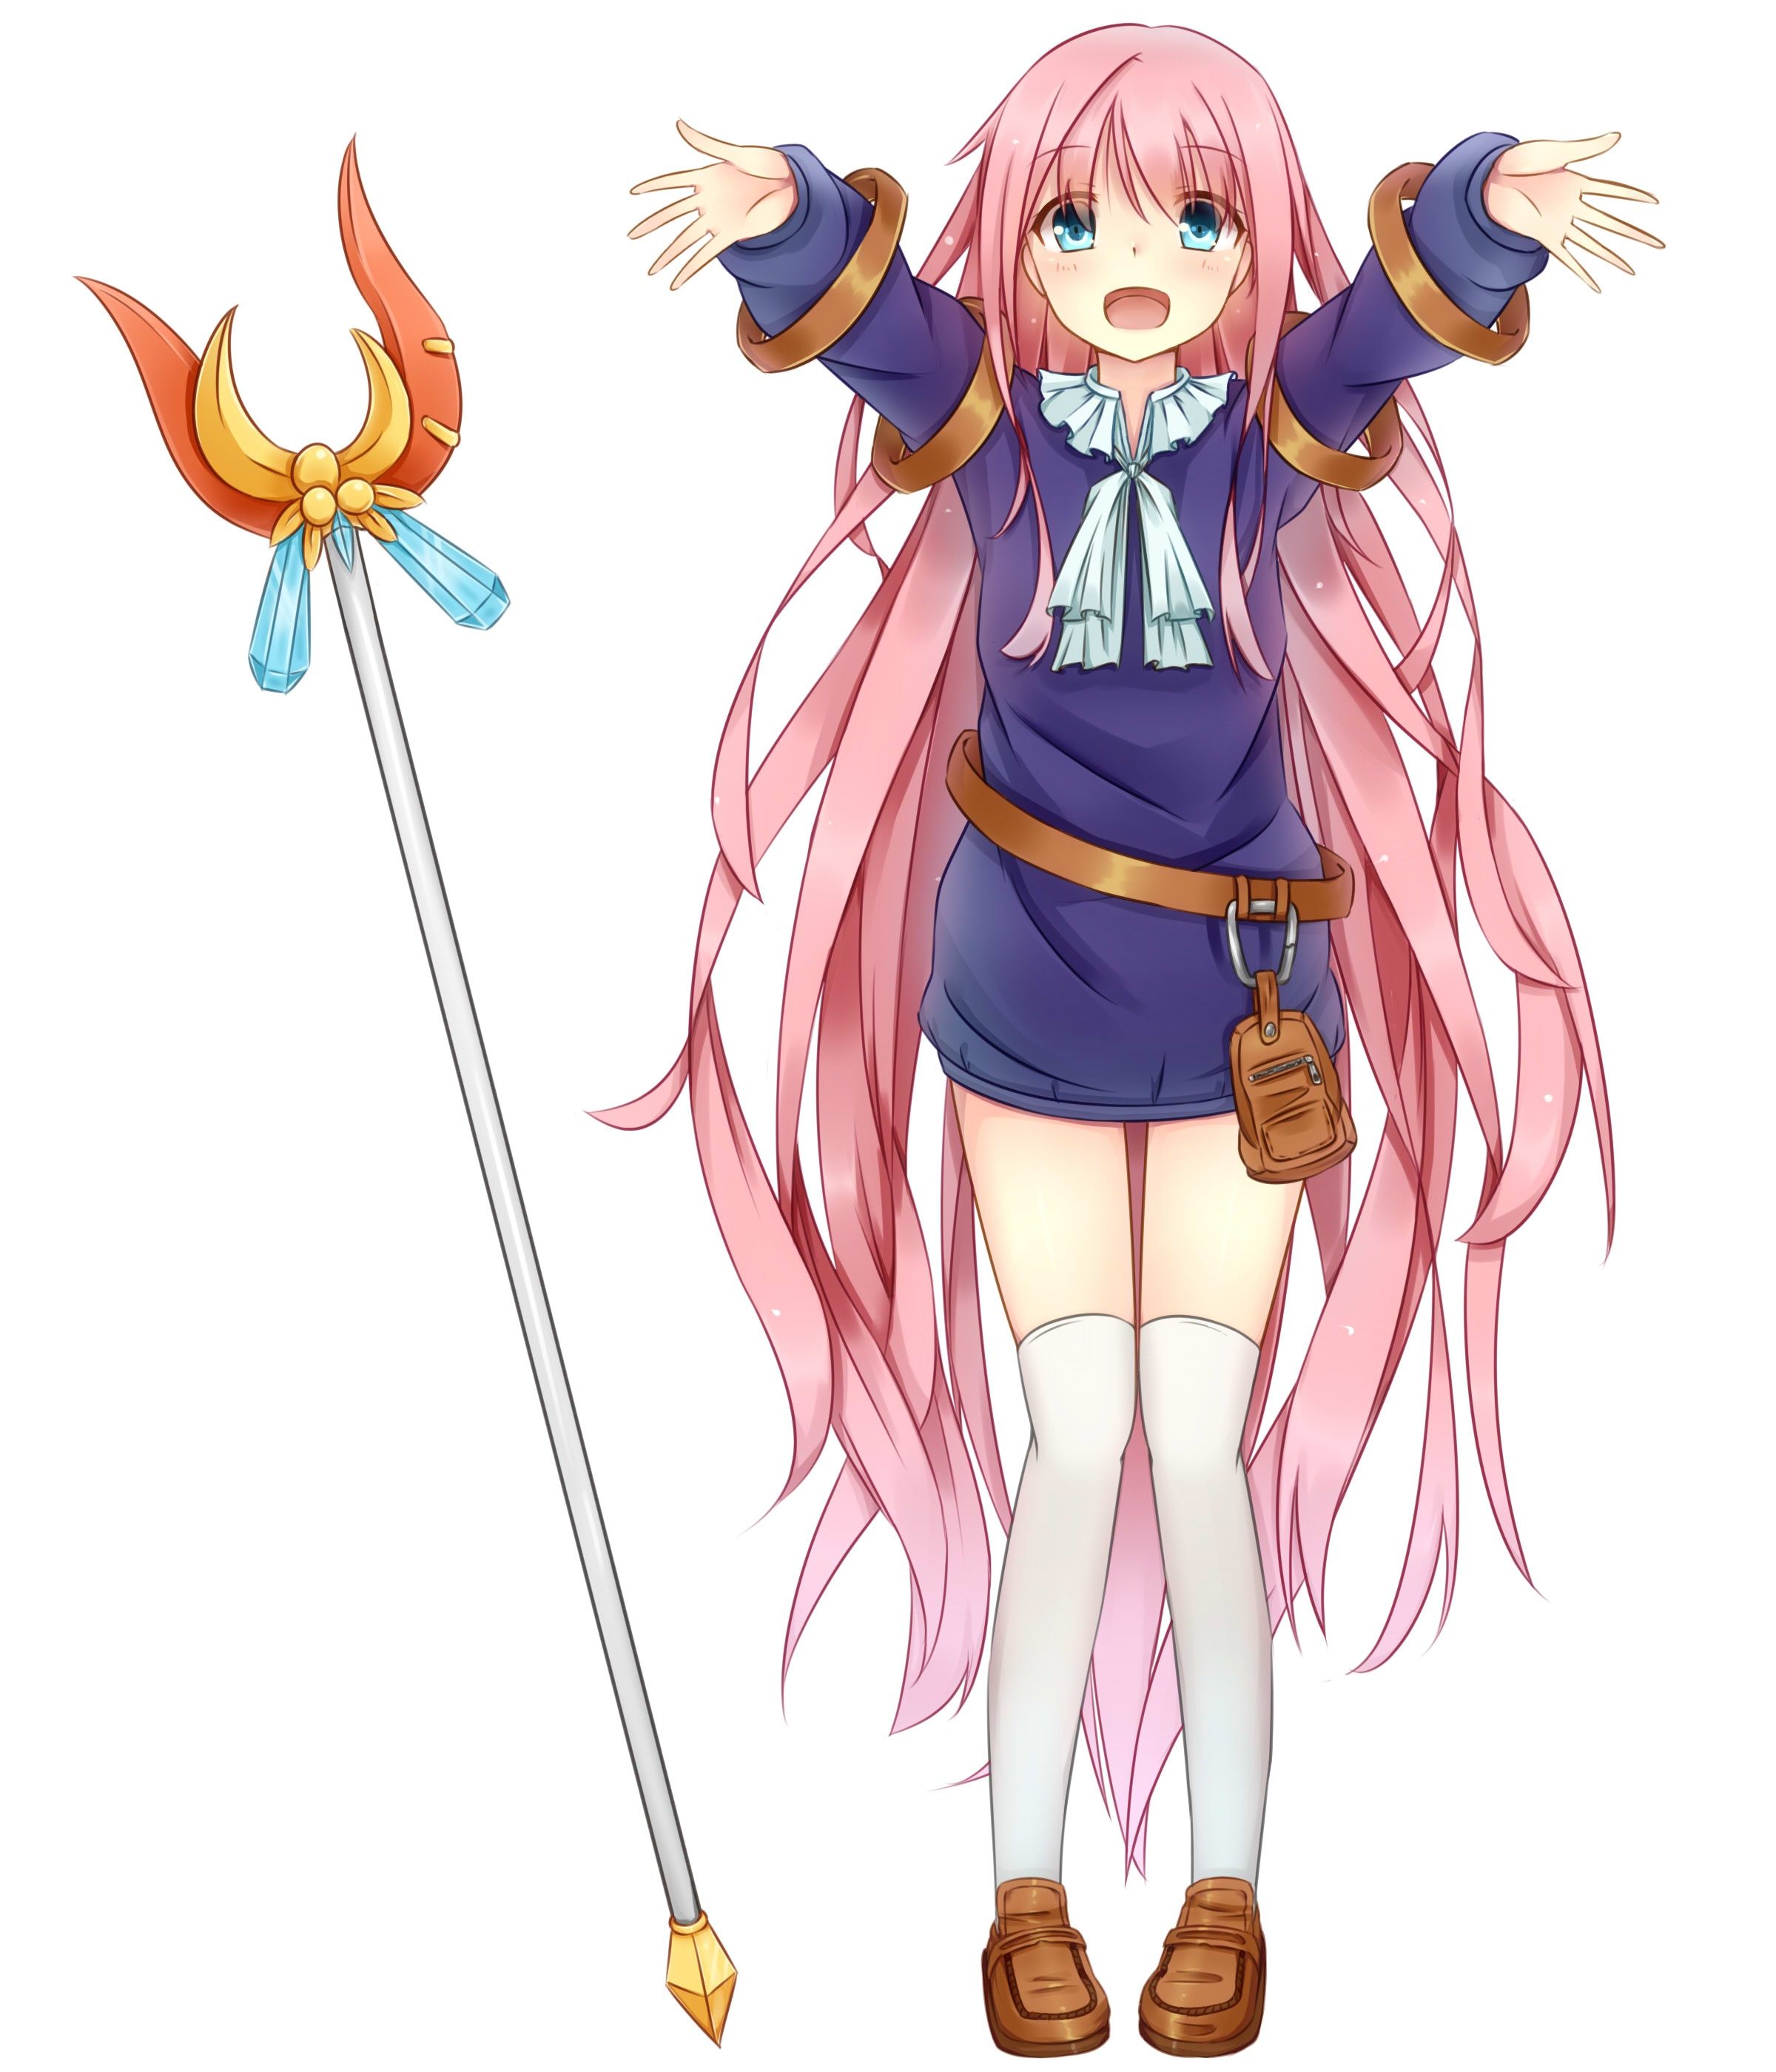纸片人正脸: (933, 28, 1331, 397)
